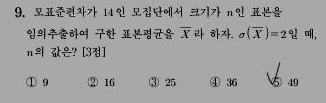choice: (266, 70, 283, 89)
not-choice: (85, 75, 99, 89), (23, 75, 38, 88), (146, 75, 159, 89), (208, 75, 221, 88)
